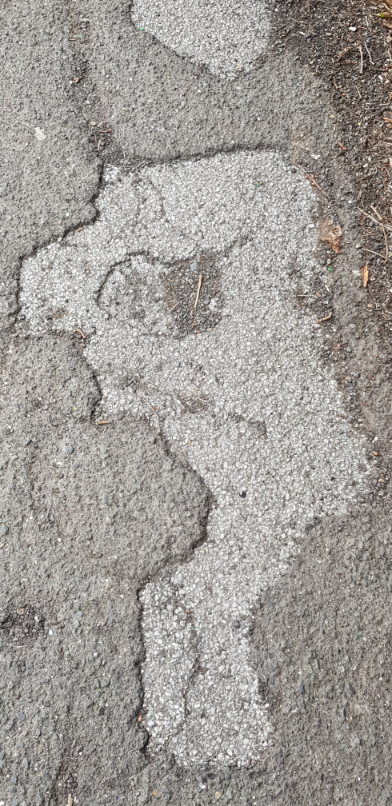pothole: (9, 137, 386, 775), (94, 237, 227, 338), (122, 0, 281, 82)
